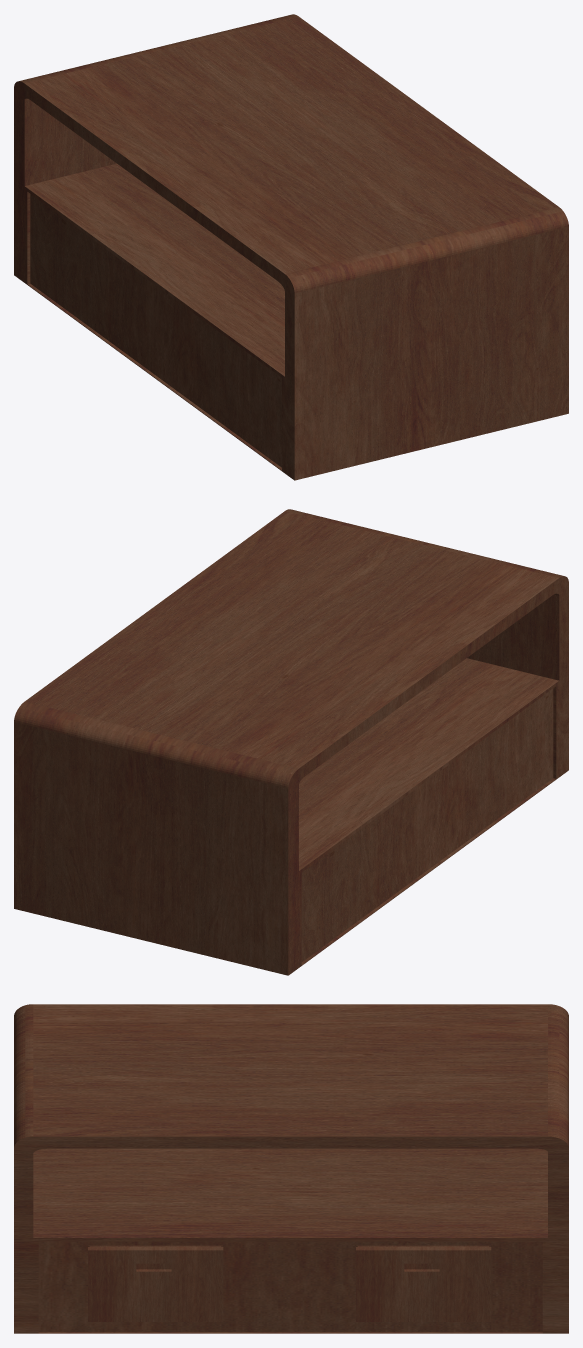
Rendered from table.fbx.
3 renders of one model, top to bottom at view 1: azimuth 30°, elevation 25°; view 2: azimuth 150°, elevation 25°; view 3: azimuth 270°, elevation 25°, orthographic.
Parts seen in each view (by area): view 1: Cube; view 2: Cube; view 3: Cube, Cube.001, Cube.002.
Boxes of the visible parts, bbox=[...] form: Cube: bbox=[14, 14, 568, 480]; Cube: bbox=[14, 509, 568, 975]; Cube: bbox=[14, 1004, 568, 1333]; Cube.001: bbox=[356, 1245, 491, 1321]; Cube.002: bbox=[88, 1245, 223, 1321].
Size of the model in its own units: 580 by 393 by 1002.
